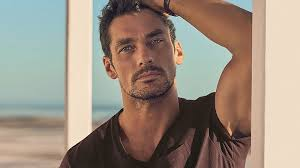b.y: (132, 67, 166, 94)
